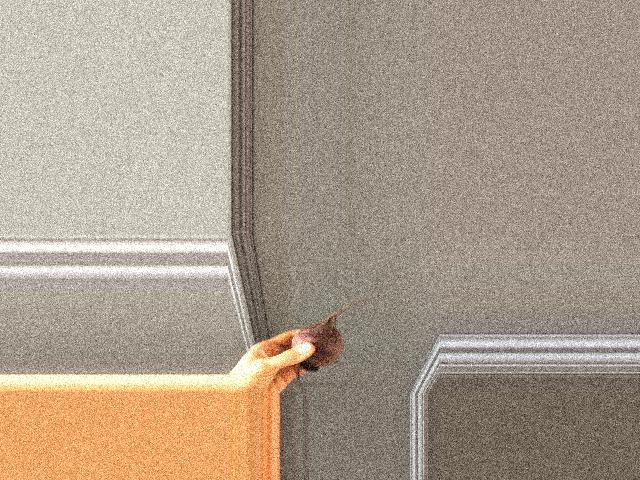beet: (292, 300, 371, 394)
